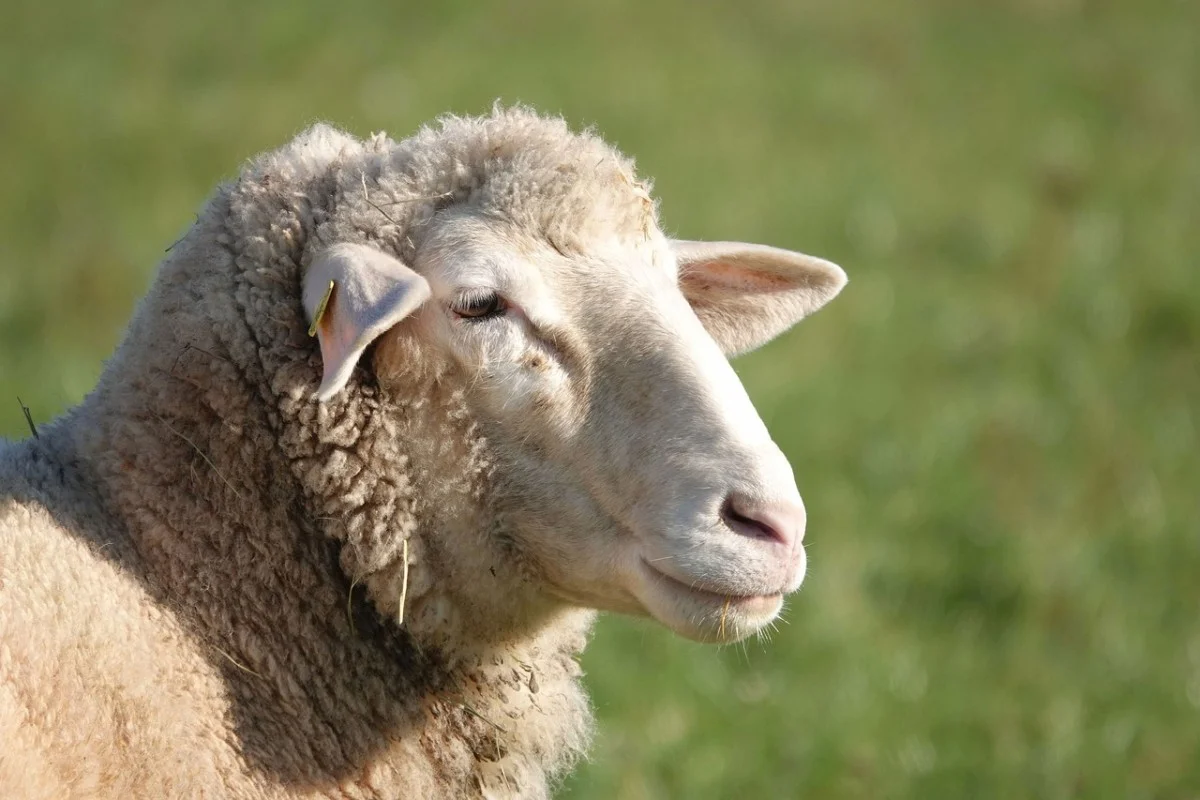sheep: (60, 127, 839, 783)
